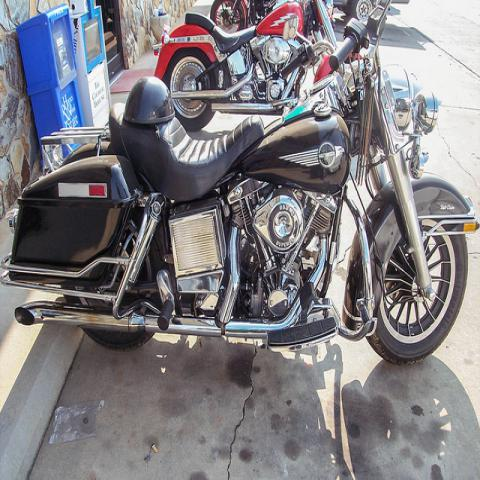motorcycle: (1, 8, 479, 370), (150, 2, 338, 131), (210, 0, 278, 32)
